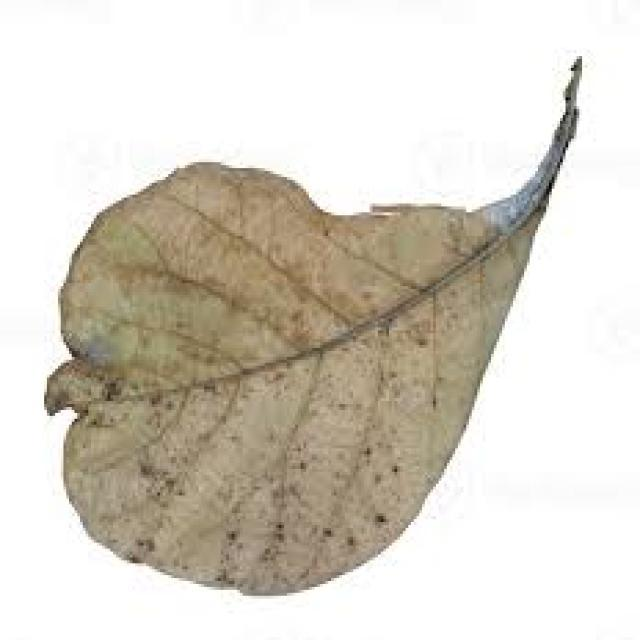leaf: (44, 55, 583, 596)
